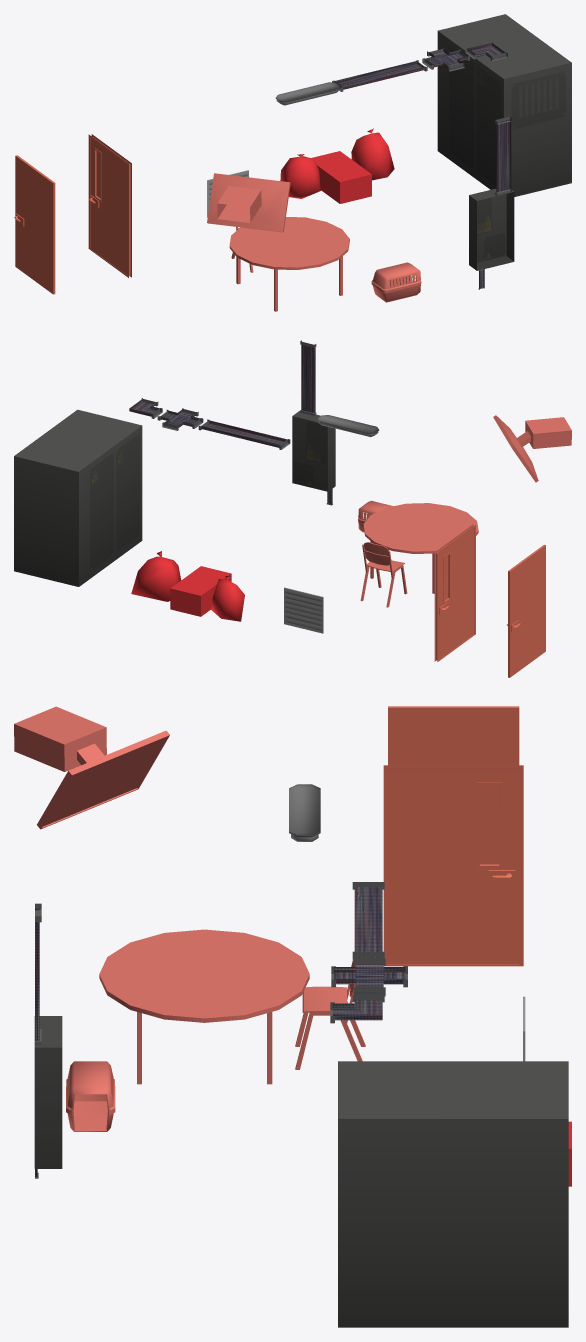
Rendered from TLRKamersProps.fbx.
3 renders of one model, top to bottom at view 1: azimuth 30°, elevation 25°; view 2: azimuth 150°, elevation 25°; view 3: azimuth 270°, elevation 25°, orthographic. The views are drawn at different scales.
Visible parts, largest first — view 1: PowerBox, Tabel, SmallPowerBox, Door, DoorWithWindow, Tv, Box, TravelCage, VuilnisZak1, VuilnisZak2, DeurFrame, StraightCable (+3 smaller); view 2: PowerBox, Tabel, SmallPowerBox, Door, DoorWithWindow, Tv, Box, VuilnisZak1, VentKap, Chair, VuilnisZak2, DeurFrame (+4 smaller); view 3: PowerBox, DoorWithWindow, Tabel, Tv, Door, SmallPowerBox, DeurFrame, TravelCage, StraightCable, Chair, TSplitCable, Light1 (+2 smaller).
Part boxes in pixels (box(x1,y1,x2,y2)): PowerBox: box(437, 14, 571, 196); Tabel: box(229, 217, 349, 311); SmallPowerBox: box(469, 116, 514, 289); Door: box(14, 155, 55, 294); DoorWithWindow: box(89, 138, 130, 275); Tv: box(207, 173, 290, 232); Box: box(311, 151, 371, 203); TravelCage: box(371, 262, 421, 302); VuilnisZak1: box(351, 128, 394, 180); VuilnisZak2: box(280, 154, 320, 198); DeurFrame: box(88, 134, 131, 277); StraightCable: box(332, 60, 427, 91); PowerBox: box(14, 409, 142, 586); Tabel: box(363, 503, 478, 593); SmallPowerBox: box(292, 340, 335, 505); Door: box(507, 544, 545, 677); DoorWithWindow: box(436, 528, 474, 659); Tv: box(493, 415, 571, 482); Box: box(170, 566, 231, 616); VuilnisZak1: box(131, 551, 181, 601); VentKap: box(284, 587, 323, 633); Chair: box(360, 542, 407, 607); VuilnisZak2: box(211, 575, 244, 621); DeurFrame: box(434, 524, 475, 661); PowerBox: box(338, 1061, 568, 1327); DoorWithWindow: box(388, 771, 519, 963); Tabel: box(99, 929, 309, 1084); Tv: box(14, 706, 169, 829); Door: box(388, 706, 519, 765); SmallPowerBox: box(34, 903, 62, 1178); DeurFrame: box(383, 765, 523, 966); TravelCage: box(66, 1061, 115, 1131); StraightCable: box(352, 882, 384, 960); Chair: box(295, 961, 365, 1069); TSplitCable: box(331, 958, 407, 996); Light1: box(289, 784, 320, 841).
Size of the model in its own units: 948 by 304 by 519.
